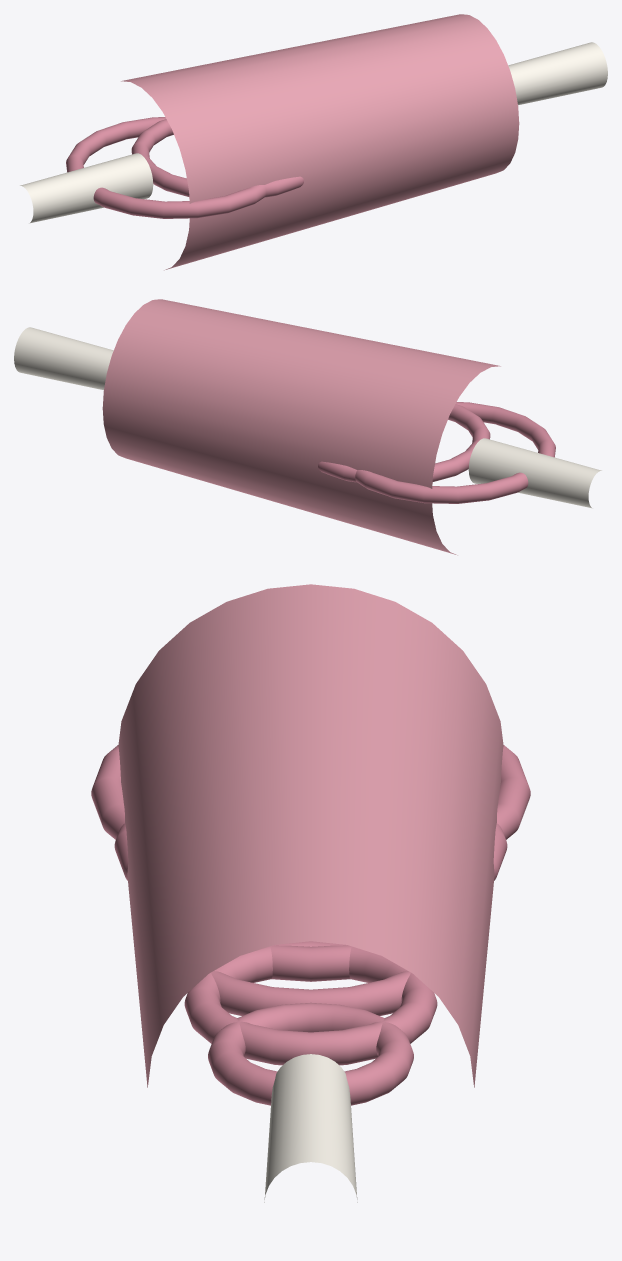
File: muscle.glb
3 views of the same model, one above another, from view 1: azimuth 30°, elevation 25°; view 2: azimuth 150°, elevation 25°; view 3: azimuth 270°, elevation 25° (orthographic). The views are drawn at different scales.
Visible parts, largest first — view 1: muscle_belly, tendon_start, fascicle_1, tendon_end, fascicle_2; view 2: muscle_belly, tendon_start, fascicle_1, tendon_end, fascicle_2; view 3: muscle_belly, fascicle_5, fascicle_6, tendon_end, fascicle_4, fascicle_1, fascicle_3, fascicle_2.
Part boxes in pixels (x1,y1,x2,y2): muscle_belly: [121, 14, 519, 270]; tendon_start: [20, 153, 153, 223]; fascicle_1: [66, 117, 266, 218]; tendon_end: [508, 42, 607, 105]; fascicle_2: [131, 119, 303, 197]; muscle_belly: [102, 299, 500, 555]; tendon_start: [468, 438, 601, 508]; fascicle_1: [355, 402, 555, 503]; tendon_end: [14, 327, 113, 390]; fascicle_2: [318, 404, 490, 482]; muscle_belly: [118, 584, 503, 1087]; fascicle_5: [184, 941, 437, 1065]; fascicle_6: [208, 1002, 413, 1105]; tendon_end: [264, 1054, 357, 1202]; fascicle_4: [211, 971, 410, 1015]; fascicle_1: [91, 745, 530, 839]; fascicle_3: [270, 945, 351, 981]; fascicle_2: [114, 823, 507, 880].
Bounding box in the file's own units: 1.83 × 0.5377 × 0.6076.
